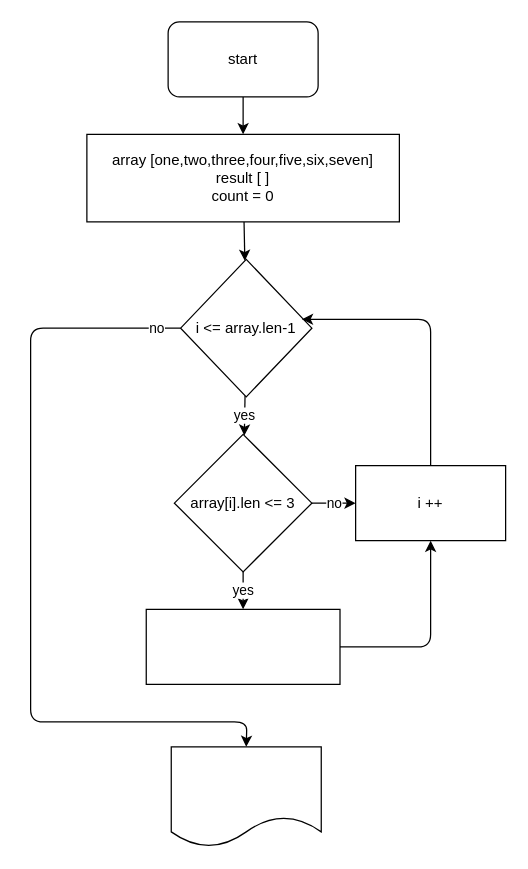
Some shapes in this 528 by 869 pixel diagram are drawn without their labels. Each missing label, with the box of its shape:
print result: (170, 746, 321, 847)
result[count] = array[i] count ++: (145, 608, 340, 684)
